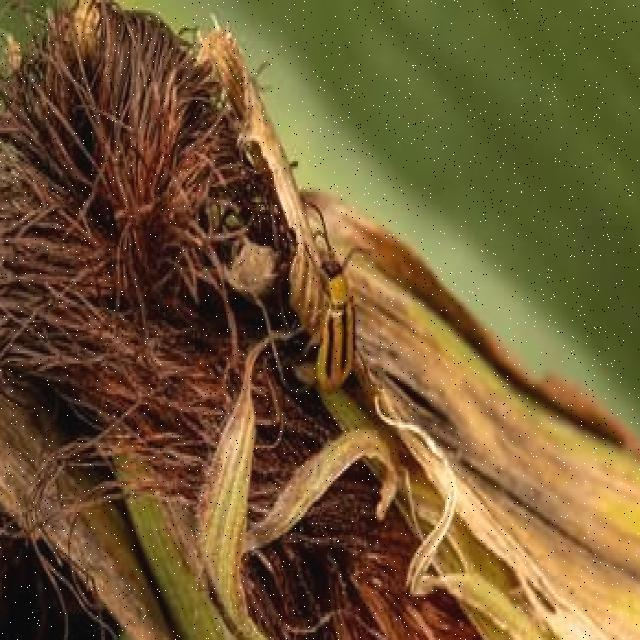trips: (302, 198, 370, 394)
